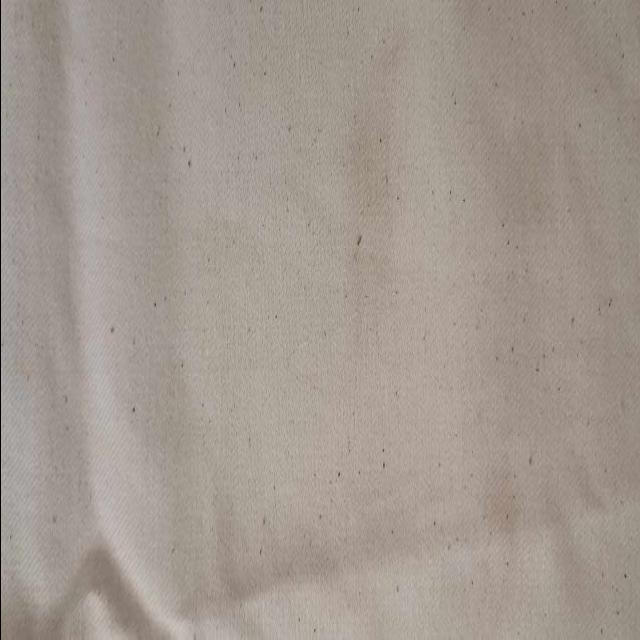taaaches: (344, 230, 370, 272)
